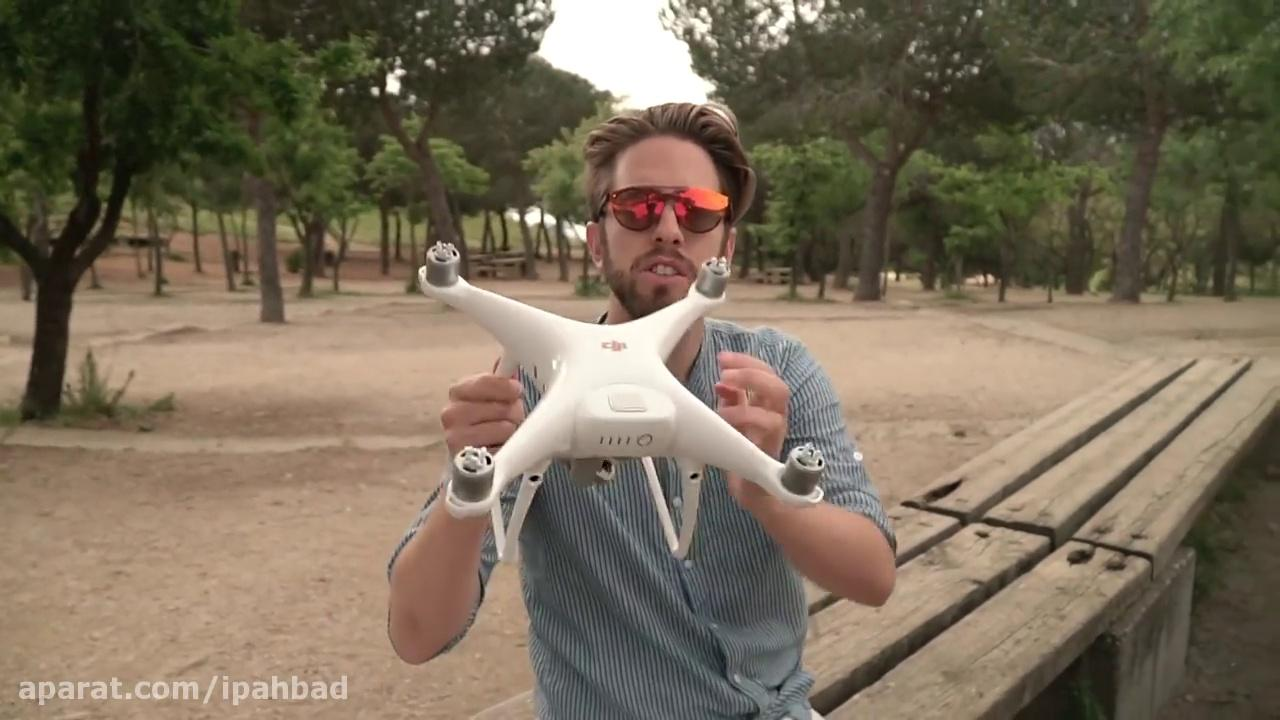drone: (413, 234, 826, 557)
